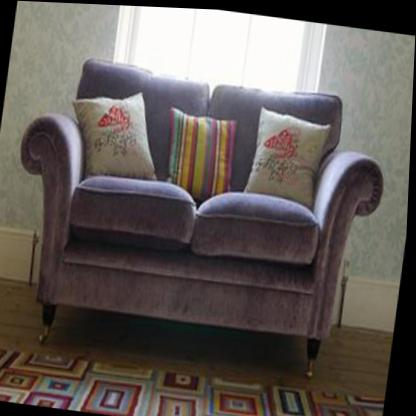Sofa: (0, 49, 396, 378)
